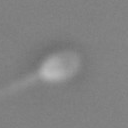normal: (1, 71, 40, 102)
